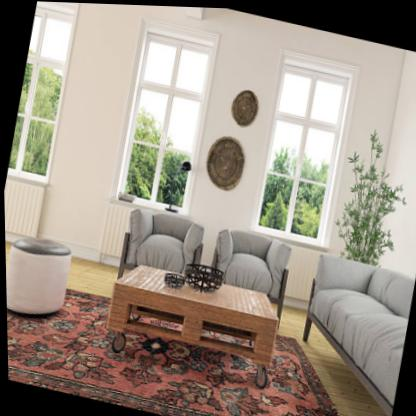Window: (245, 46, 361, 247), (106, 13, 221, 211)
